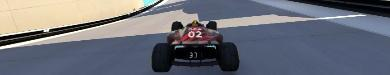Car: (150, 20, 239, 71)
obstacles-Borders: (0, 0, 169, 54)
